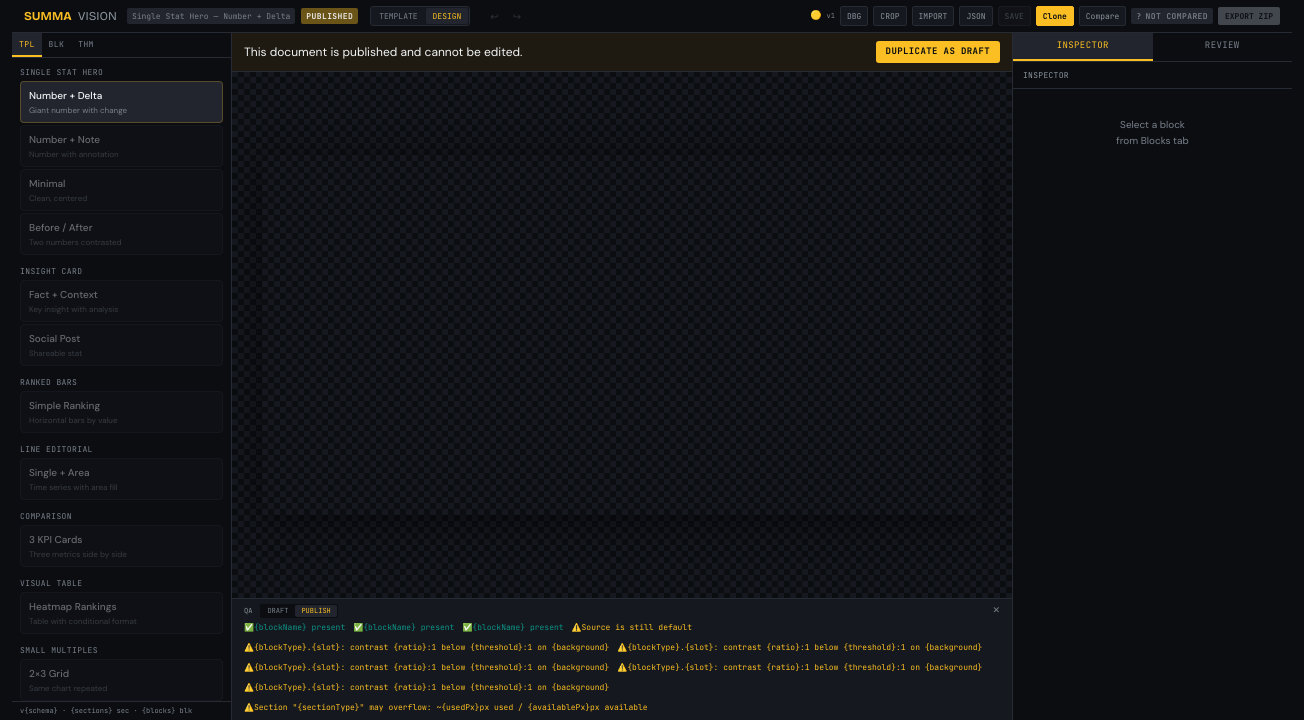
Test: Clone button component states › is disabled while clone is in flight
This screenshot has width=1304, height=720.
Click the button "Clone" at (1055, 16), box [1036,6,1074,26]
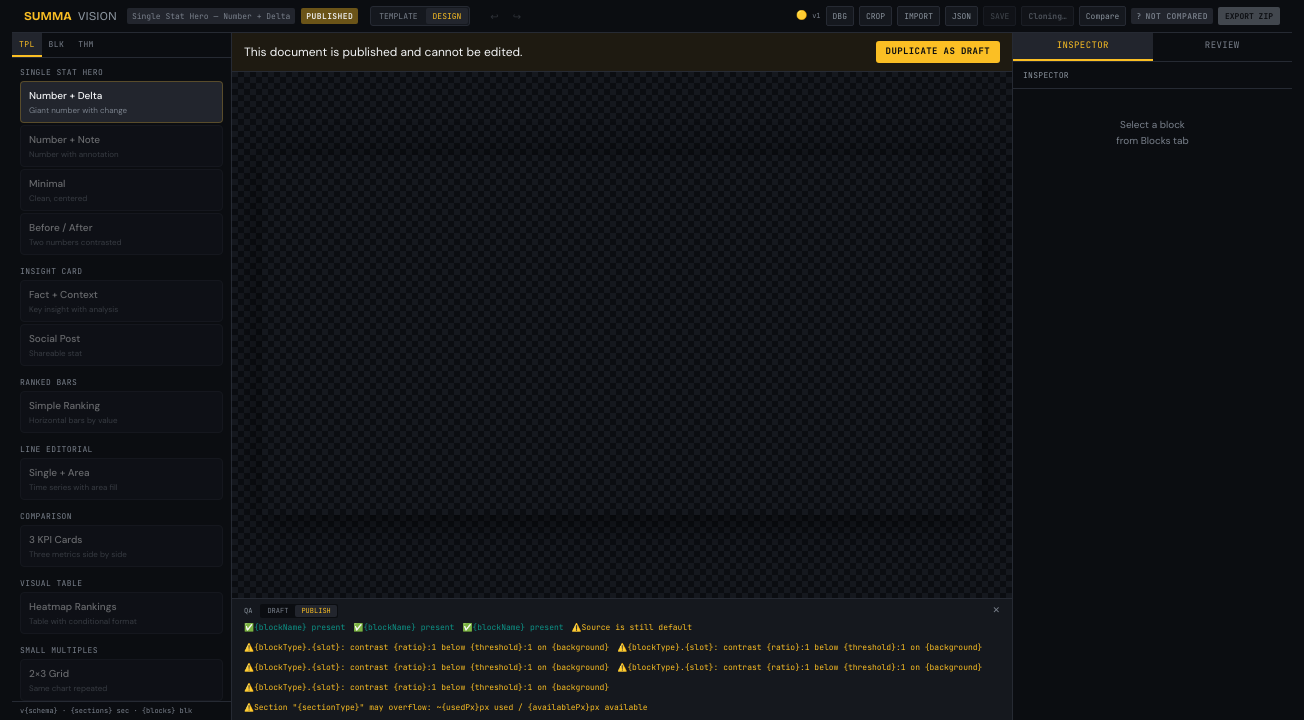
Expected: the button "Cloning…" is disabled, [1021,6,1074,26]
